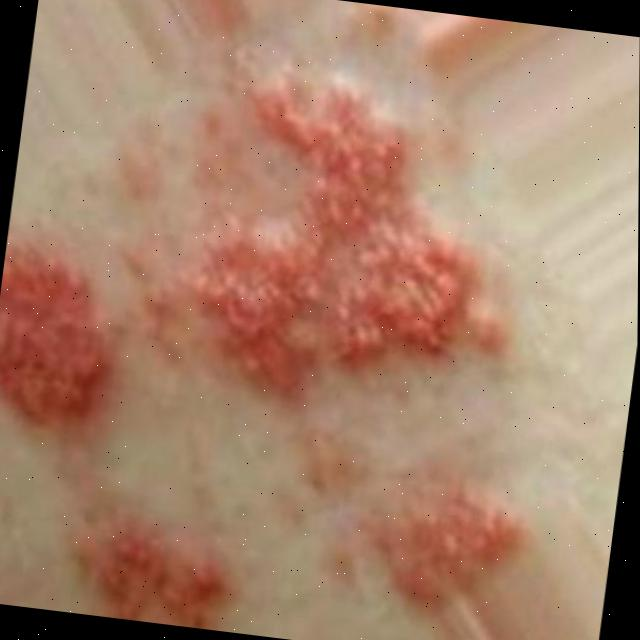Shingles: (0, 39, 563, 640)
